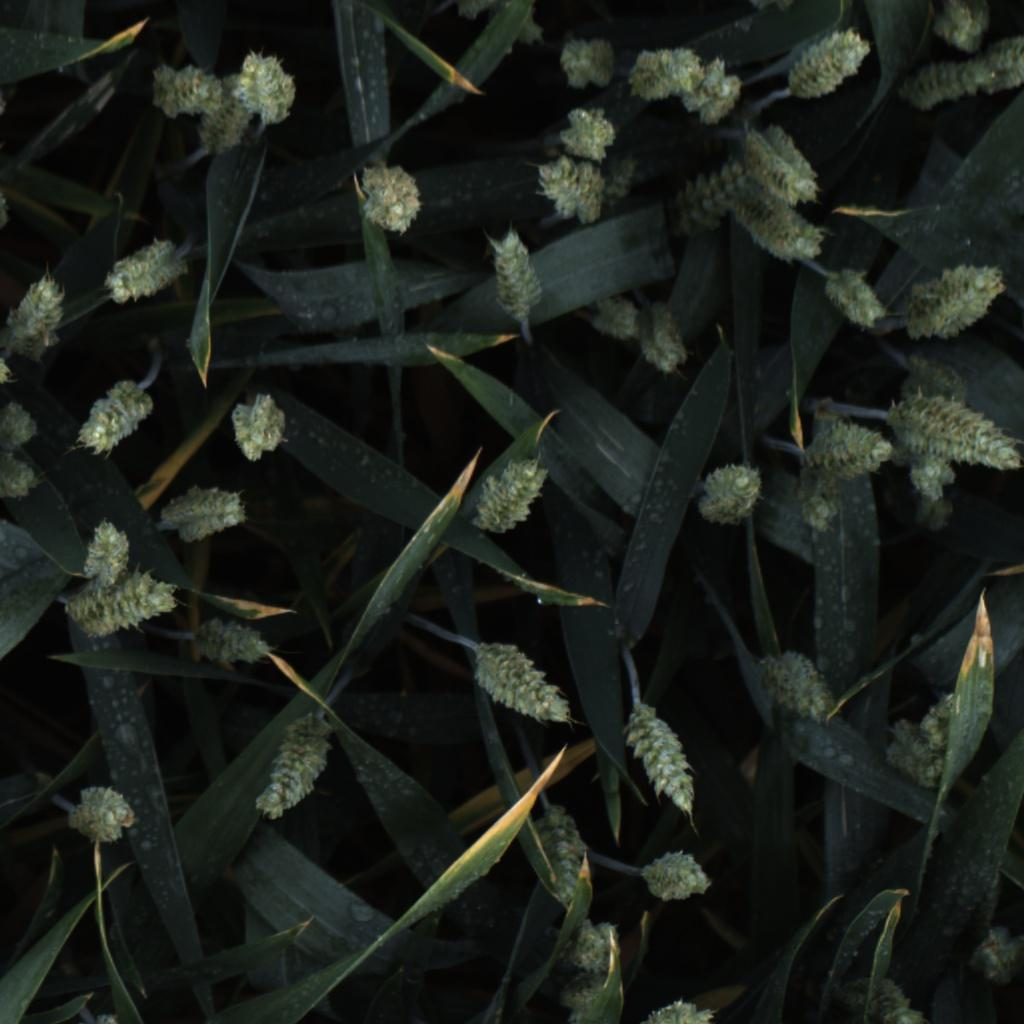0-0: (466, 636, 578, 729), (892, 395, 1024, 473), (623, 702, 702, 817), (255, 712, 335, 819), (904, 259, 1004, 343), (69, 366, 159, 455), (101, 230, 197, 309), (67, 574, 180, 639), (760, 646, 843, 727), (473, 452, 550, 537), (787, 30, 877, 102), (744, 123, 823, 205), (664, 164, 747, 240), (157, 480, 255, 543), (349, 160, 426, 239), (693, 453, 770, 529), (905, 54, 999, 115), (529, 157, 609, 227), (485, 232, 547, 320), (803, 414, 895, 473), (536, 811, 589, 911), (746, 204, 827, 267), (199, 68, 253, 160), (240, 46, 302, 126), (224, 394, 295, 462), (880, 718, 952, 784), (549, 31, 625, 93), (63, 783, 138, 845), (456, 0, 540, 55), (685, 52, 748, 125), (628, 40, 701, 102), (188, 620, 278, 670), (145, 63, 224, 119), (7, 275, 69, 346), (825, 265, 889, 332), (76, 510, 135, 582), (965, 919, 1024, 991), (639, 847, 712, 905), (895, 350, 979, 398), (552, 105, 619, 161), (643, 300, 692, 373), (787, 480, 848, 538), (563, 920, 627, 975), (553, 976, 625, 1024), (927, 0, 993, 52), (584, 293, 643, 343), (871, 975, 929, 1024), (605, 153, 647, 220), (0, 455, 53, 508), (909, 453, 961, 505), (636, 993, 717, 1024), (920, 688, 960, 749), (991, 26, 1024, 93), (0, 400, 43, 448), (8, 326, 61, 364), (909, 495, 962, 531), (0, 356, 13, 386)
